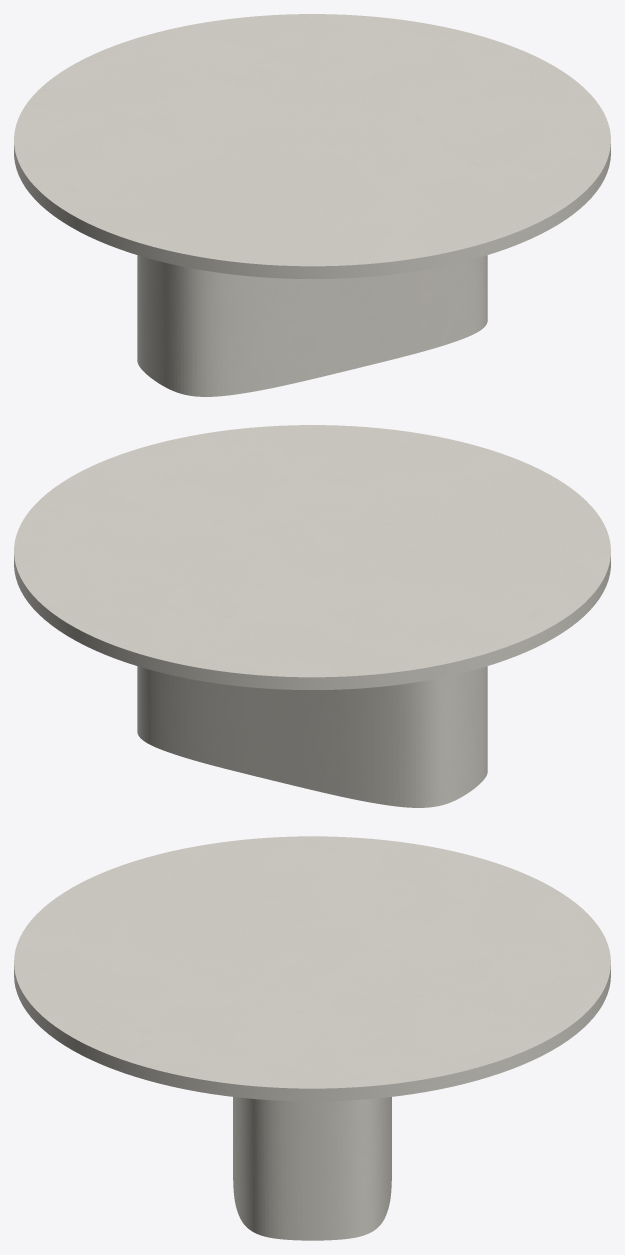
The model's file is pale_round_standard_fixed.glb.
3 renders of one model, top to bottom at view 1: azimuth 30°, elevation 25°; view 2: azimuth 150°, elevation 25°; view 3: azimuth 270°, elevation 25°, orthographic.
Parts seen in each view (by area): view 1: standard_round, fixed; view 2: standard_round, fixed; view 3: standard_round, fixed.
Part boxes in pixels (x1=…): standard_round: x1=14, y1=14, x2=610, y2=278; fixed: x1=137, y1=255, x2=487, y2=396; standard_round: x1=14, y1=425, x2=610, y2=689; fixed: x1=137, y1=666, x2=487, y2=807; standard_round: x1=14, y1=836, x2=610, y2=1101; fixed: x1=233, y1=1097, x2=391, y2=1240.
Size of the model in its own units: 6.75 by 2.5 by 6.75.
1 material, 1 textured.
